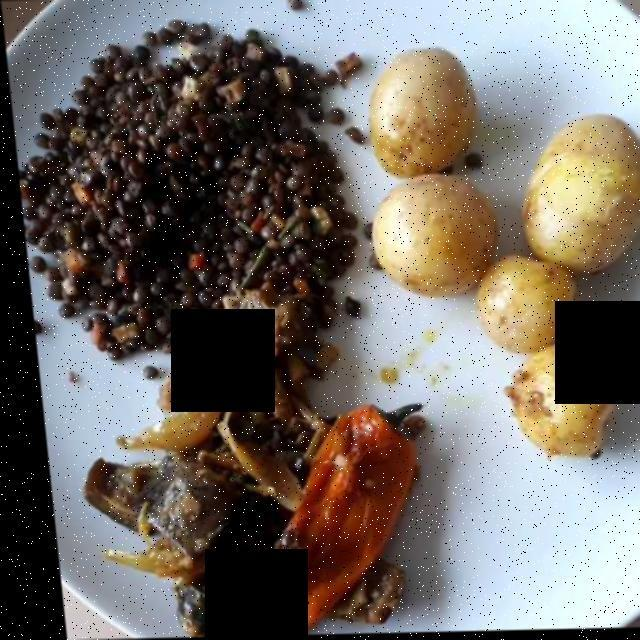beans: (0, 14, 357, 368)
mixed-vegetables: (66, 312, 437, 633)
potatoes: (344, 37, 639, 465)
